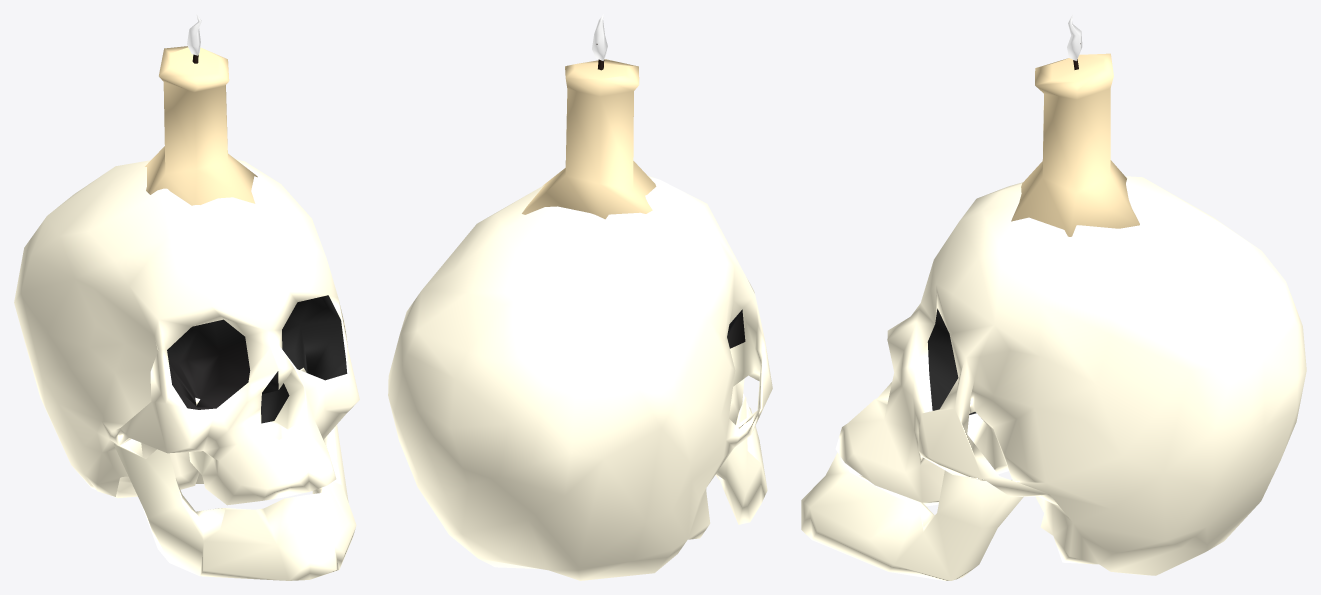
File: CandleSkullShapeB.003.glb
3 views of the same model, side by side, from view 1: azimuth 30°, elevation 25°; view 2: azimuth 150°, elevation 25°; view 3: azimuth 270°, elevation 25° (orthographic). The views are drawn at different scales.
Visible parts, largest first — view 1: CandleSkullShapeB.003; view 2: CandleSkullShapeB.003; view 3: CandleSkullShapeB.003.
Boxes of the visible parts, left/top/right/bottom form: CandleSkullShapeB.003: left=14, top=14, right=359, bottom=580; CandleSkullShapeB.003: left=388, top=14, right=772, bottom=580; CandleSkullShapeB.003: left=801, top=15, right=1306, bottom=580.
Size of the model in its own units: 0.2005 by 0.3649 by 0.3132.
2 materials, 2 textured.
